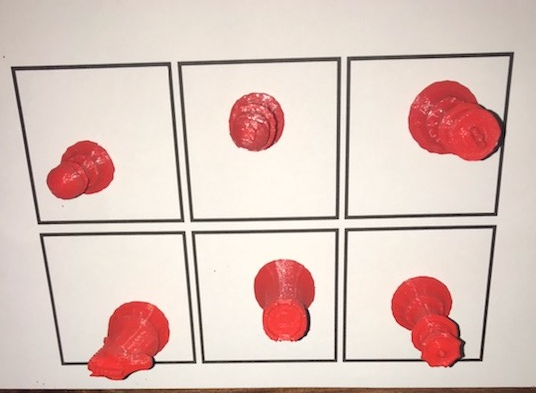Red Bishop: (225, 88, 287, 151)
Red Castle: (246, 253, 325, 348)
Red King: (397, 78, 509, 169)
Red Knight: (82, 286, 173, 387)
Red Pawn: (34, 134, 122, 203)
Red Queen: (385, 273, 474, 368)
